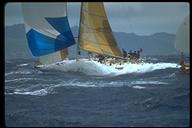sailboat: (21, 3, 145, 76), (171, 11, 191, 76)
sky: (112, 2, 176, 32)
water: (5, 76, 189, 125)
